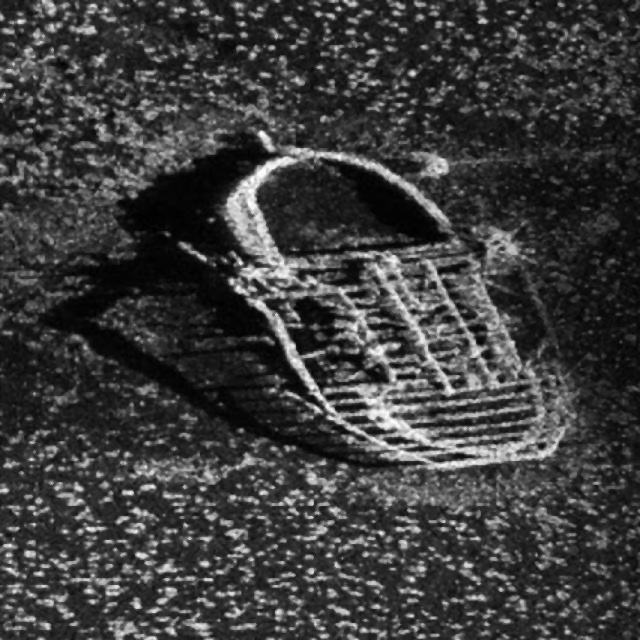Ship: (145, 111, 588, 488)
